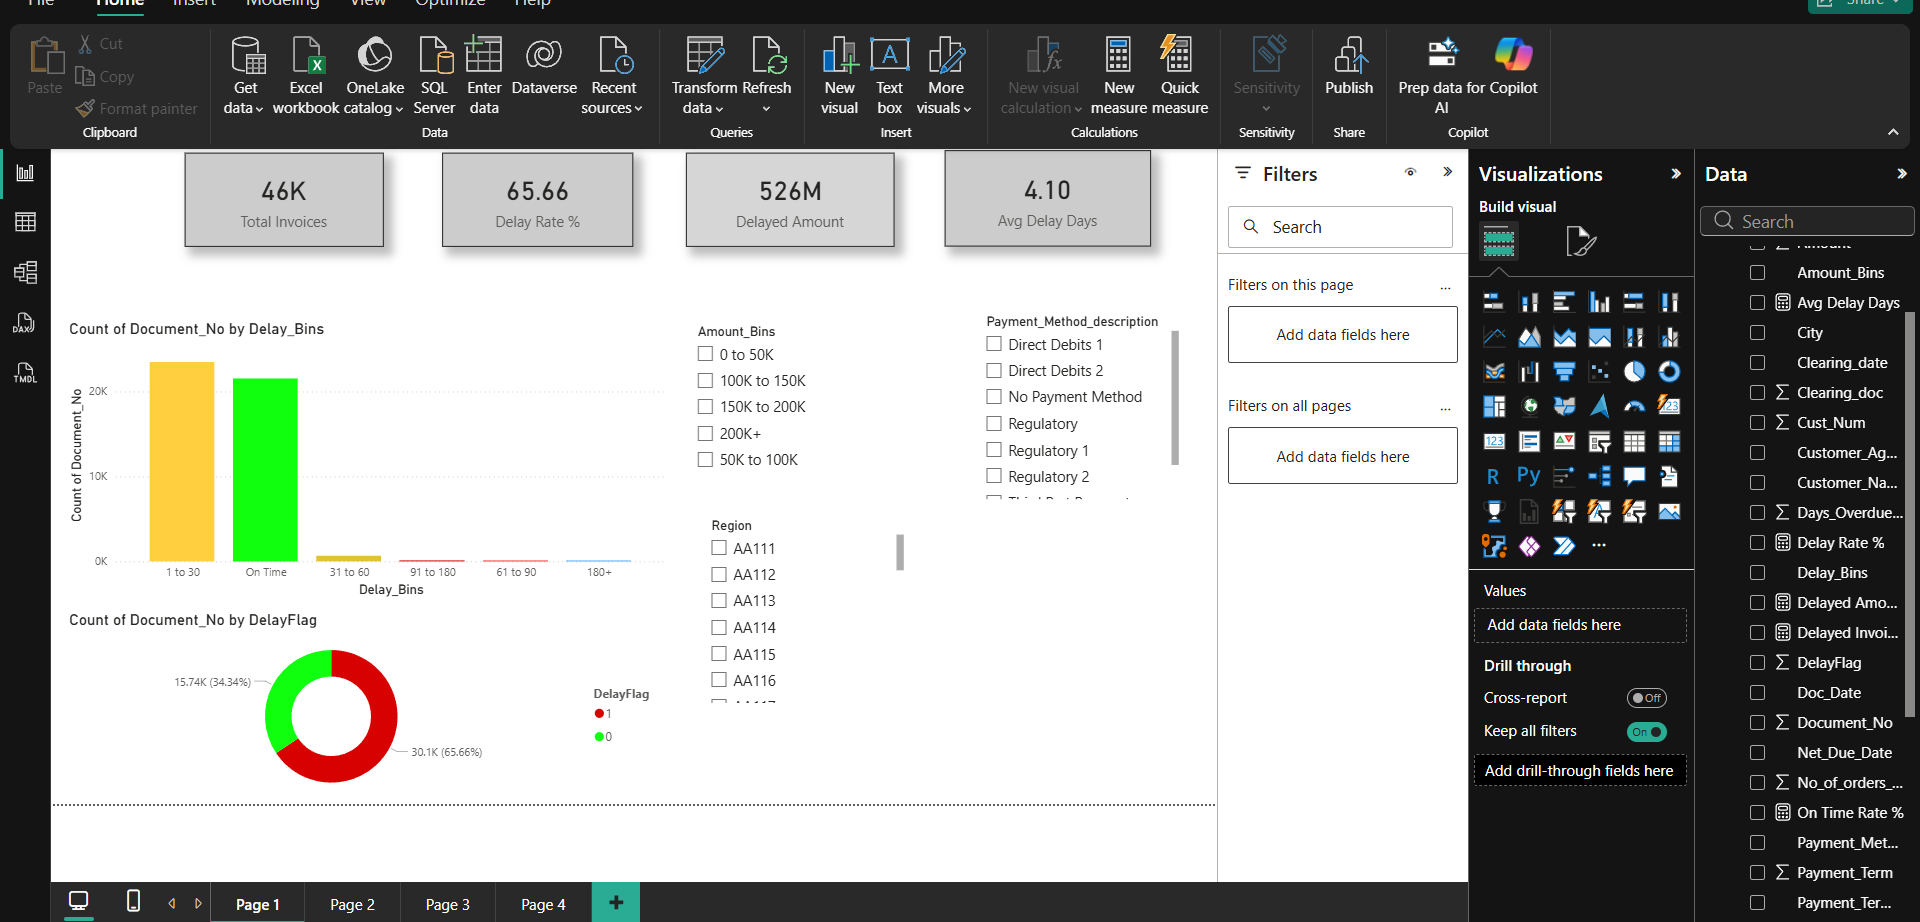

The dashboard page shown, as its layout file describes it:
{"tool":"powerbi","page":{"name":"Page 1","canvas":[1280,720],"ordinal":0},"visuals":[{"type":"card","fields":{"Values":["SMEDataset.Total Invoices"]},"box":[146.8,4.1,218.2,102.9],"z":0},{"type":"card","fields":{"Values":["SMEDataset.Delay Rate %"]},"box":[429.5,4.1,209.9,102.9],"z":1},{"type":"card","fields":{"Values":["SMEDataset.Delayed Amount"]},"box":[697.1,4.1,229.2,102.9],"z":2},{"type":"card","fields":{"Values":["SMEDataset.Avg Delay Days"]},"box":[981.1,1.4,226.4,105.7],"z":3},{"type":"columnChart","fields":{"Y":["CountNonNull(SMEDataset.Document_No)"],"Category":["SMEDataset.Delay_Bins"]},"box":[15.1,186.6,665.5,310.1],"z":4},{"type":"donutChart","fields":{"Category":["SMEDataset.DelayFlag"],"Y":["CountNonNull(SMEDataset.Document_No)"]},"box":[15.1,506.3,665.5,214.1],"z":5},{"type":"slicer","fields":{"Values":["SMEDataset.Amount_Bins"]},"box":[697,187,229,310],"z":6},{"type":"slicer","fields":{"Values":["SMEDataset.Payment_Method_description"]},"box":[1014.1,175.6,229.2,214.1],"z":7},{"type":"slicer","fields":{"Values":["SMEDataset.Region"]},"box":[712.2,399.3,229.2,214.1],"z":8}]}

Visuals, with their boxes on the page's 1280x720 design canvas (x1, y1, x2, y2). These are canvas units, not pixel positions in the 1920x922 screenshot, which may show the page scaled, cropped or inside an application window:
card - SMEDataset.Total Invoices: 147,4,365,107
card - SMEDataset.Delay Rate %: 430,4,639,107
card - SMEDataset.Delayed Amount: 697,4,926,107
card - SMEDataset.Avg Delay Days: 981,1,1208,107
columnChart - CountNonNull(SMEDataset.Document_No) x SMEDataset.Delay_Bins: 15,187,681,497
donutChart - SMEDataset.DelayFlag x CountNonNull(SMEDataset.Document_No): 15,506,681,720
slicer - SMEDataset.Amount_Bins: 697,187,926,497
slicer - SMEDataset.Payment_Method_description: 1014,176,1243,390
slicer - SMEDataset.Region: 712,399,941,613
